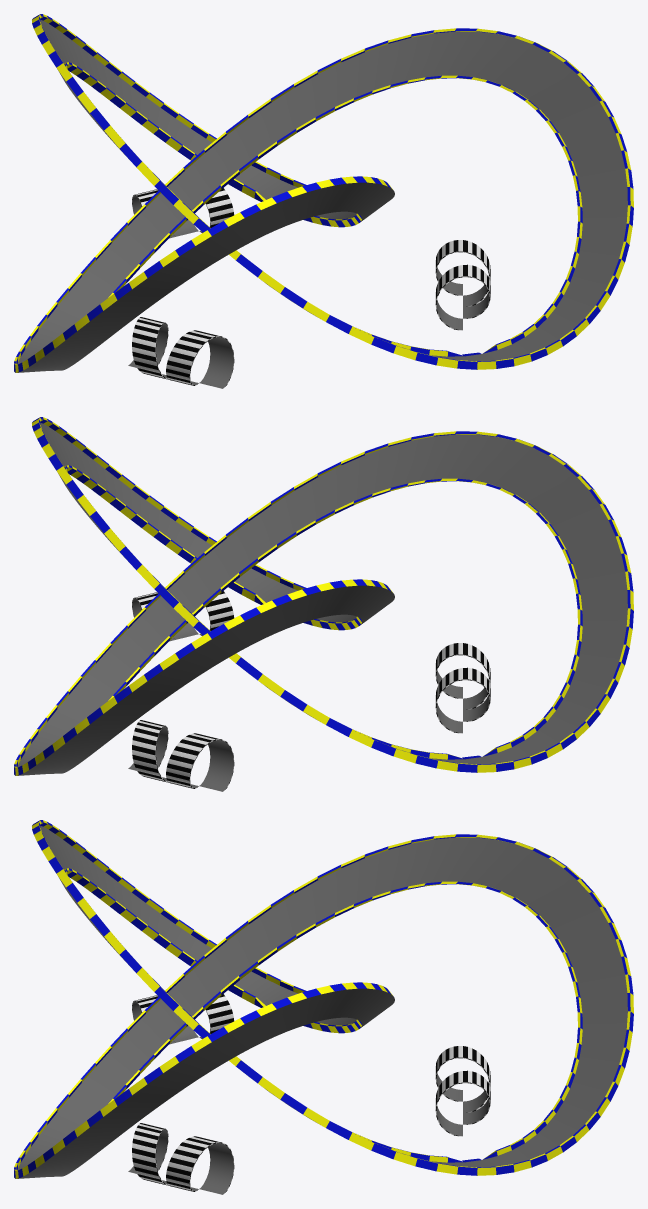
Rendered from Estruturas.glb.
3 renders of one model, top to bottom at view 1: azimuth 30°, elevation 25°; view 2: azimuth 150°, elevation 25°; view 3: azimuth 270°, elevation 25°, orthographic.
Visible parts, largest first — view 1: Pista, Loop Espesso Duplo Zebrado.002, Loop Espesso Duplo Zebrado.003, Loop Espesso Duplo Zebrado.001; view 2: Pista, Loop Espesso Duplo Zebrado.001, Loop Espesso Duplo Zebrado.002, Loop Espesso Duplo Zebrado.003; view 3: Pista, Loop Espesso Duplo Zebrado.003, Loop Espesso Duplo Zebrado.001, Loop Espesso Duplo Zebrado.002.
Boxes of the visible parts, left/top/right/bottom form: Pista: left=14, top=14, right=633, bottom=372; Loop Espesso Duplo Zebrado.002: left=128, top=317, right=234, bottom=388; Loop Espesso Duplo Zebrado.003: left=435, top=240, right=490, bottom=330; Loop Espesso Duplo Zebrado.001: left=132, top=188, right=234, bottom=238; Pista: left=14, top=417, right=633, bottom=775; Loop Espesso Duplo Zebrado.001: left=128, top=720, right=234, bottom=791; Loop Espesso Duplo Zebrado.002: left=435, top=643, right=490, bottom=733; Loop Espesso Duplo Zebrado.003: left=132, top=591, right=234, bottom=641; Pista: left=14, top=820, right=633, bottom=1178; Loop Espesso Duplo Zebrado.003: left=128, top=1123, right=234, bottom=1194; Loop Espesso Duplo Zebrado.001: left=435, top=1046, right=490, bottom=1136; Loop Espesso Duplo Zebrado.002: left=132, top=994, right=234, bottom=1044.
Bounding box in the file's own units: 1206 × 444 × 1131.
